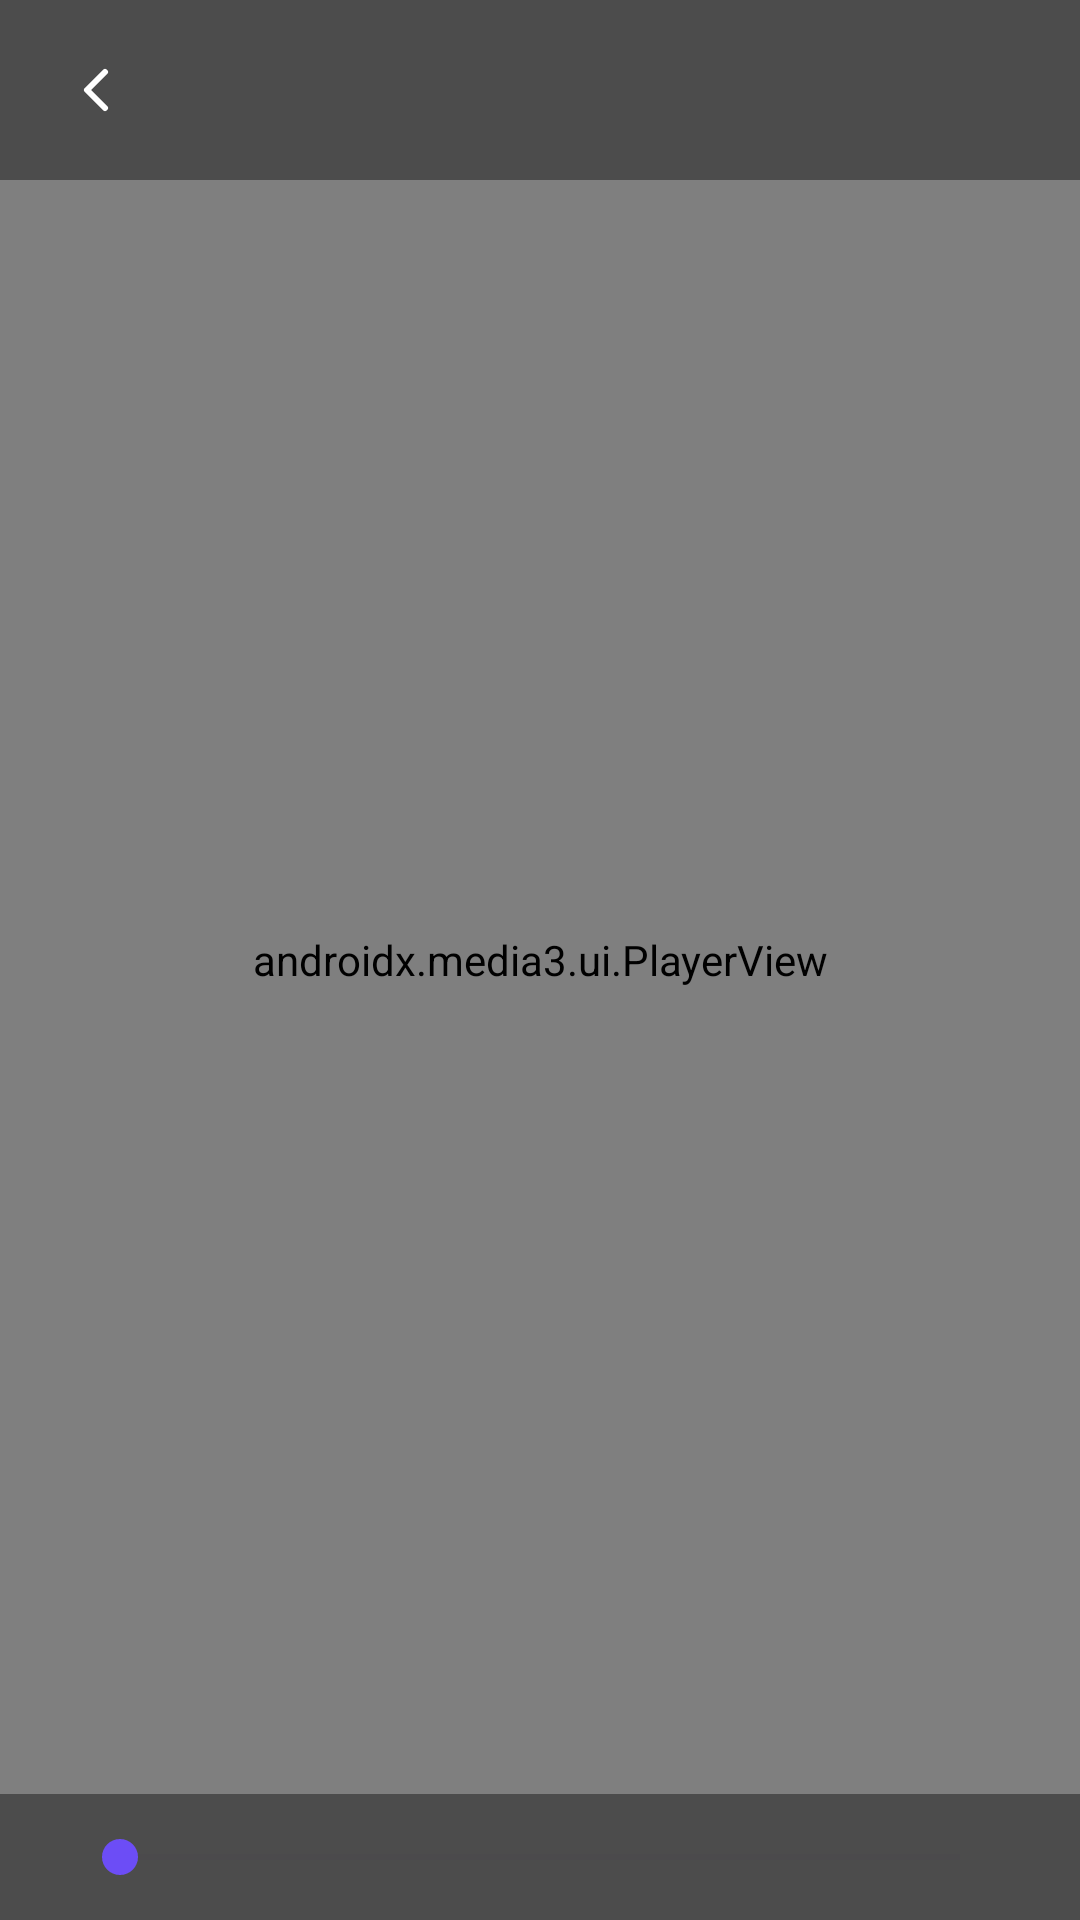

Screen size 1080 x 1920. Icon name, then its box in pixels as region(x1, y1, x2, y2):
Back: region(84, 69, 108, 111)
